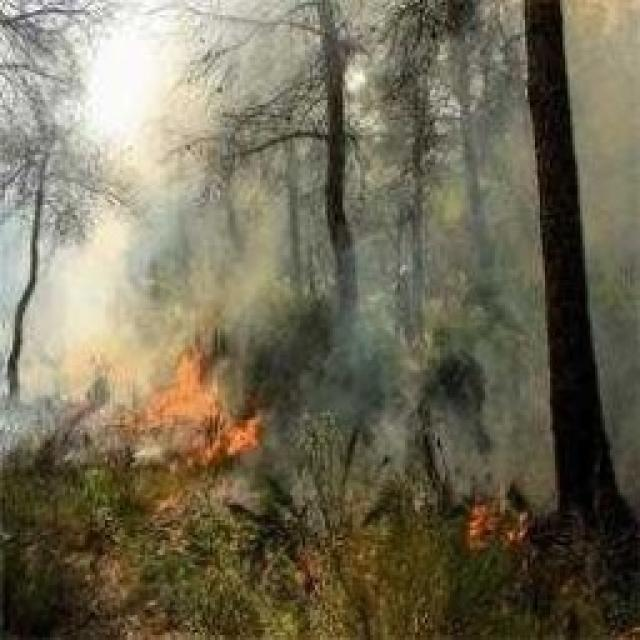Fire: (157, 336, 251, 472), (452, 483, 537, 548)
Smoke: (2, 0, 640, 325), (179, 46, 612, 346), (0, 130, 145, 469), (290, 324, 457, 511), (446, 355, 640, 469)
